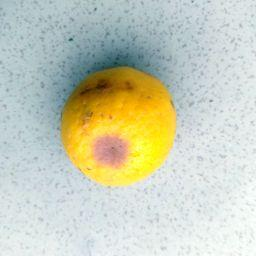Unripe: (61, 67, 173, 187)
